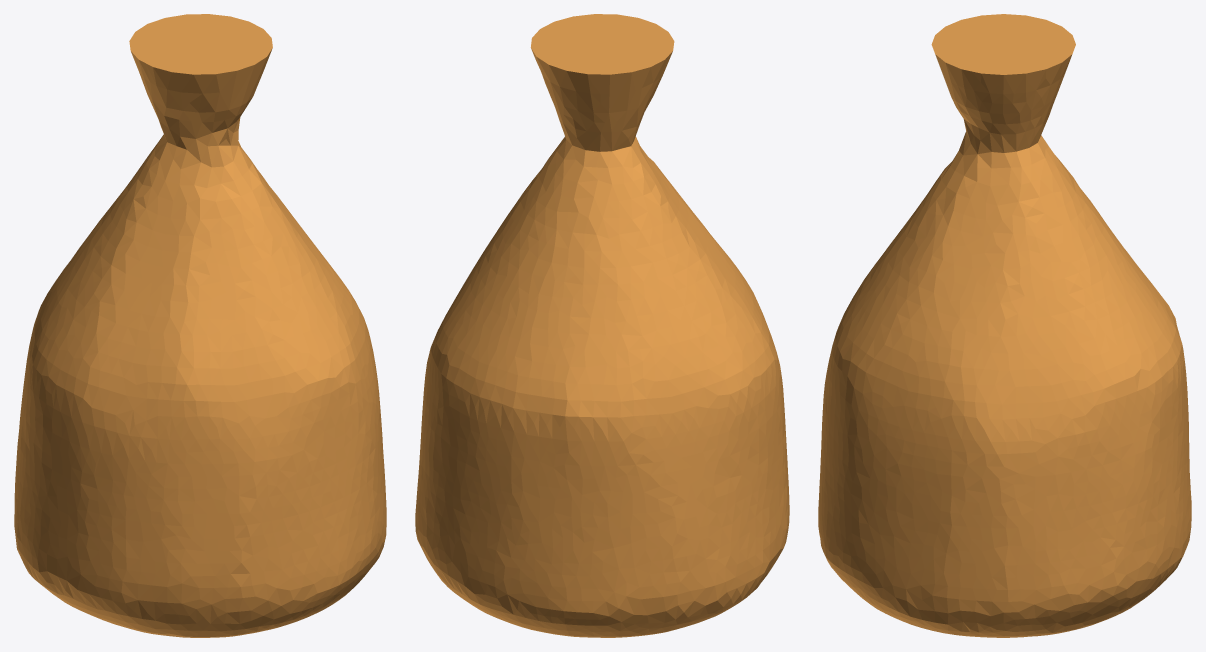
Rendered from мешок.fbx.
3 renders of one model, left to right at view 1: azimuth 30°, elevation 25°; view 2: azimuth 150°, elevation 25°; view 3: azimuth 270°, elevation 25°, orthographic.
Parts seen in each view (by area): view 1: Cylinder; view 2: Cylinder; view 3: Cylinder.
Boxes of the visible parts, box(x1,y1,x2,y2) form: Cylinder: box(14, 14, 386, 637); Cylinder: box(415, 14, 789, 637); Cylinder: box(818, 14, 1191, 637).
Size of the model in its own units: 94.01 by 150 by 93.41.
